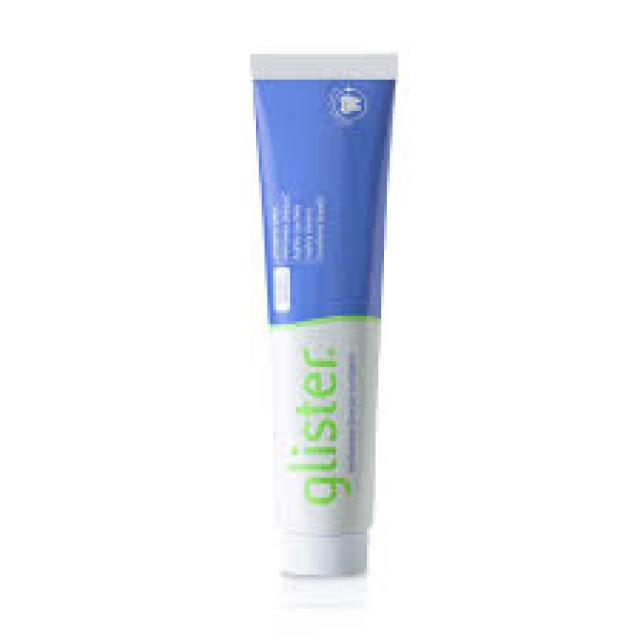toothpaste: (243, 30, 409, 583)
